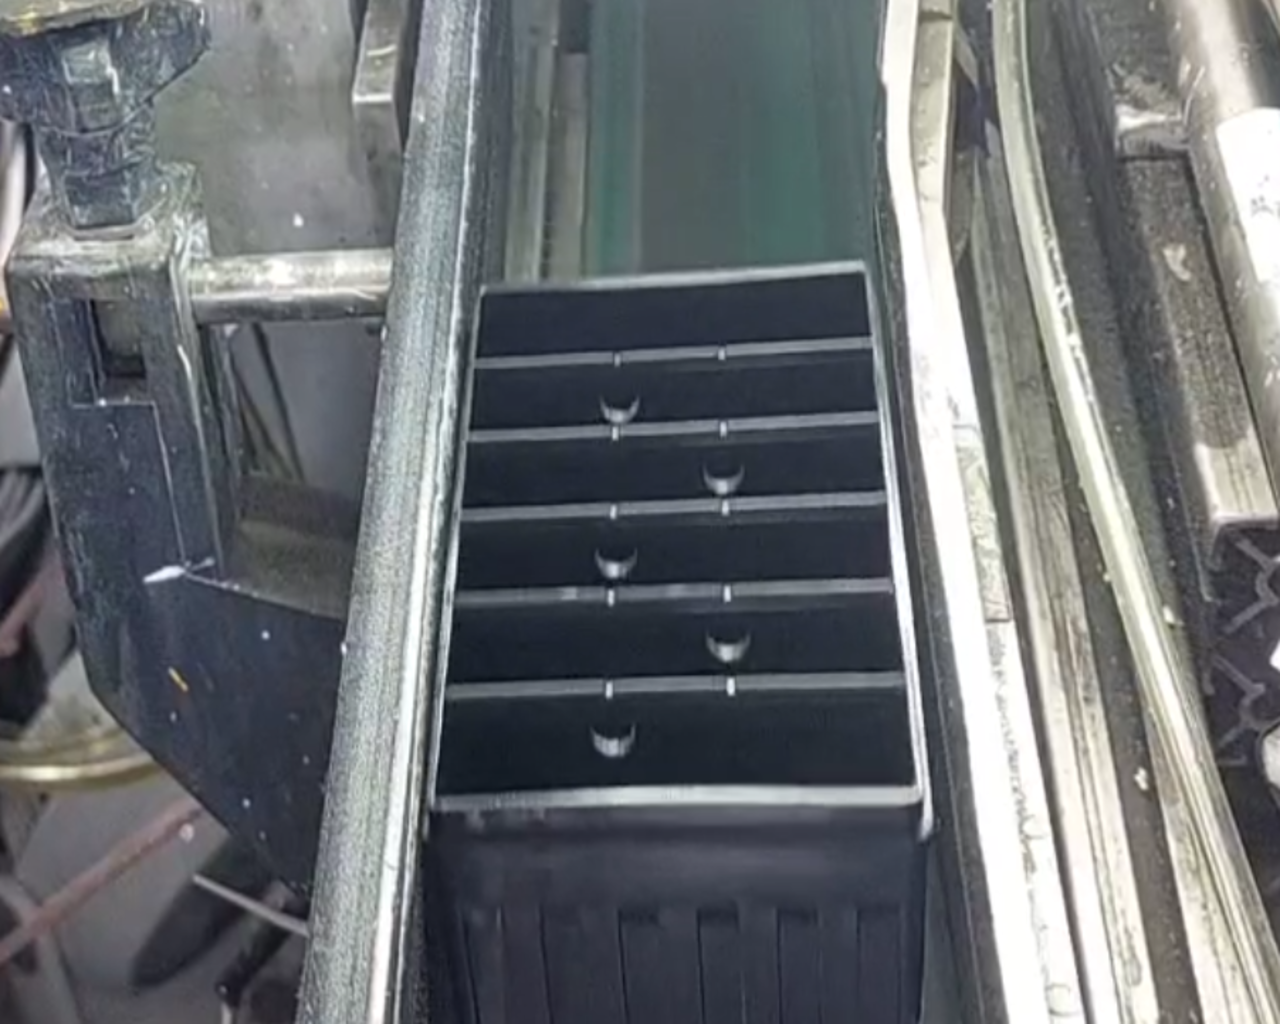box: (405, 238, 963, 858)
round: (569, 692, 653, 767), (577, 517, 655, 589), (692, 604, 767, 673), (688, 435, 757, 504), (590, 373, 649, 429)
